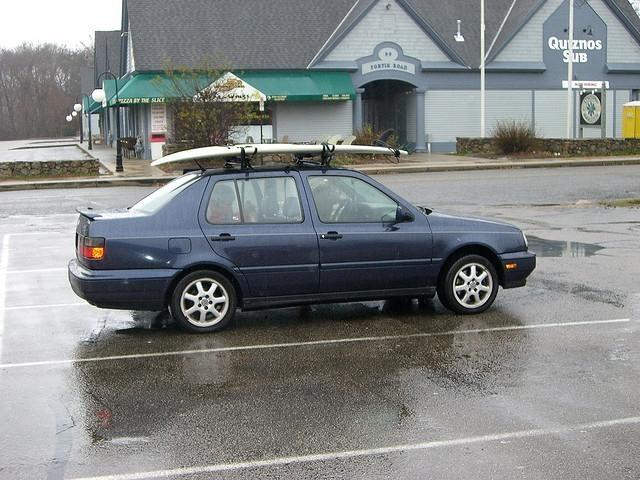car: (65, 154, 536, 328)
